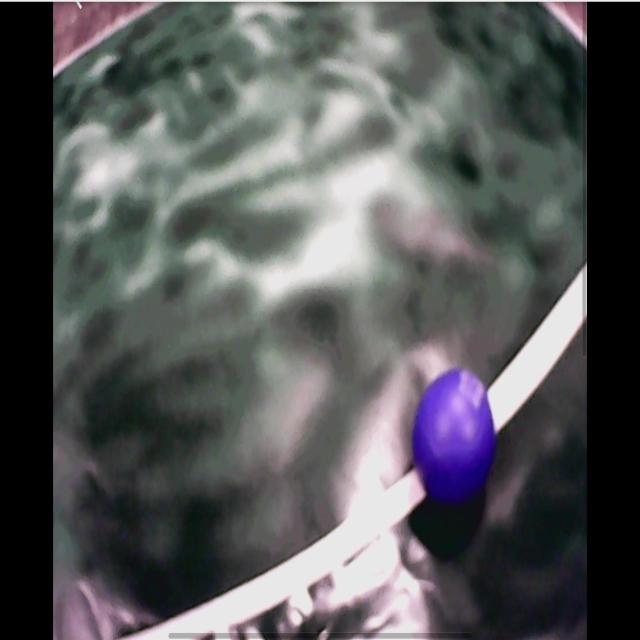ball: (413, 372, 496, 498)
